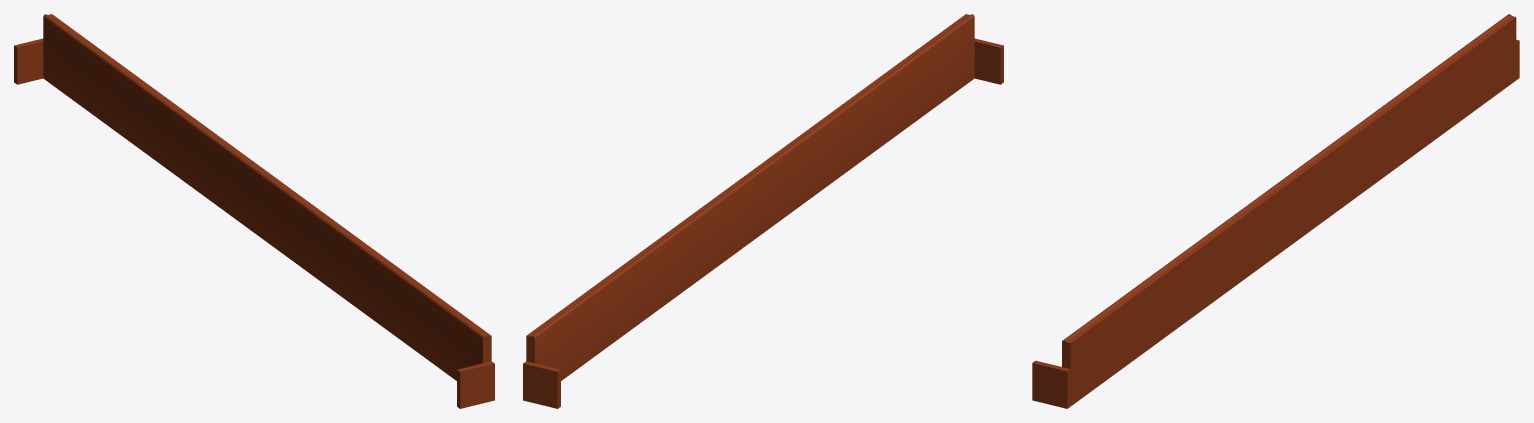
The model's file is Bench.fbx.
The picture shows the model from 3 angles, left to right: view 1: azimuth 30°, elevation 25°; view 2: azimuth 150°, elevation 25°; view 3: azimuth 330°, elevation 25°; orthographic projection.
Parts seen in each view (by area): view 1: Bench; view 2: Bench; view 3: Bench.
Part boxes in pixels (box(x1,y1,x2,y2)): Bench: box(14, 14, 494, 408); Bench: box(523, 14, 1003, 408); Bench: box(1032, 14, 1519, 408).
Bounding box in the file's own units: 62.21 × 109 × 1386.
